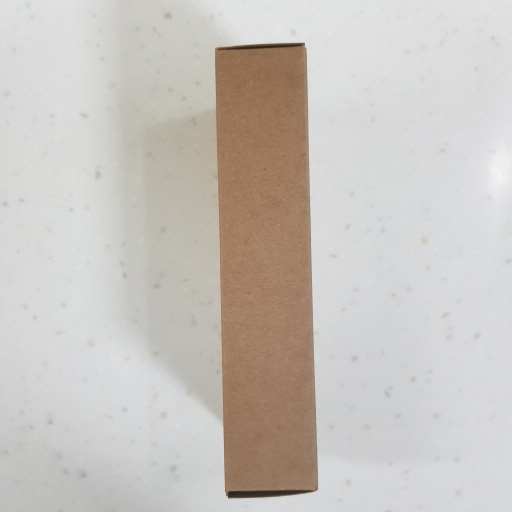Paper_0: (211, 37, 325, 502)
